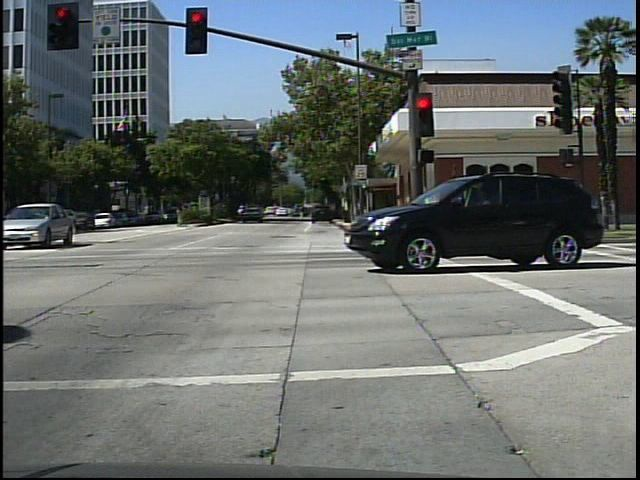person: (294, 203, 307, 221)
